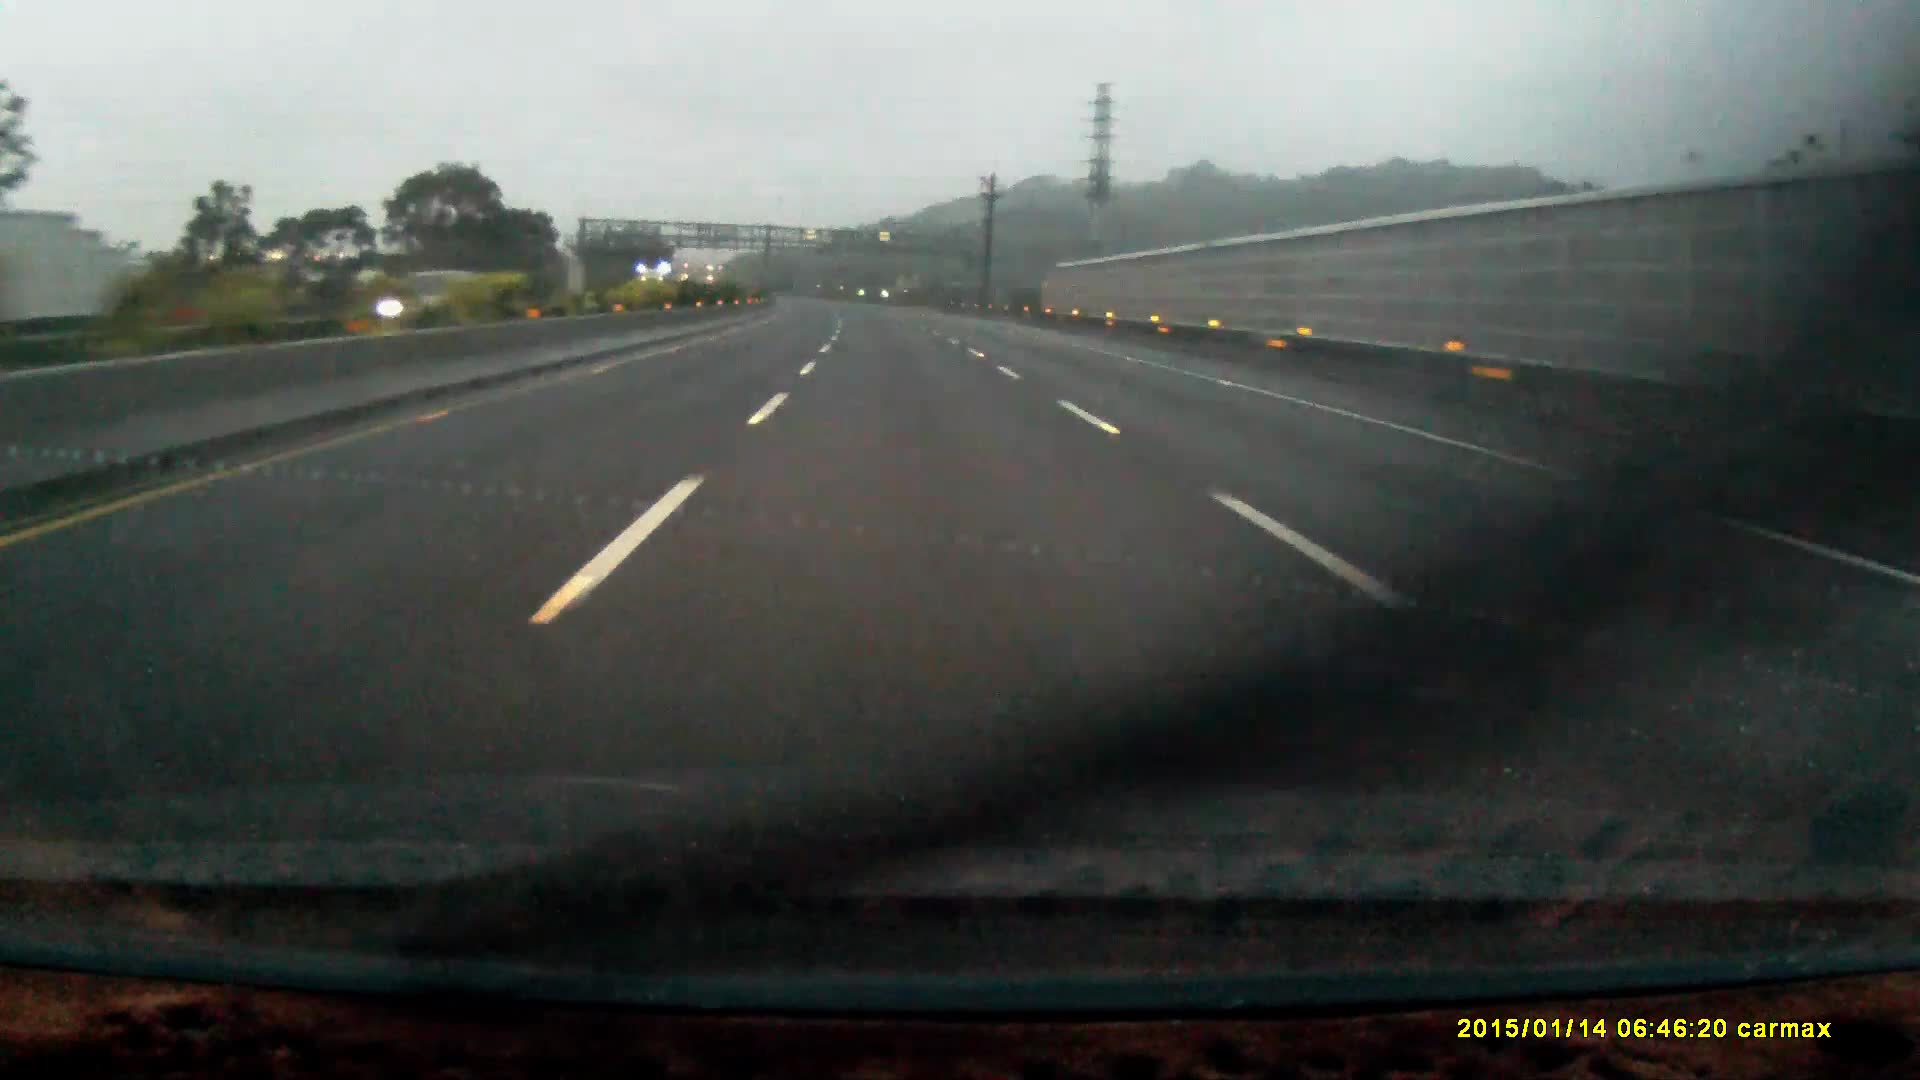vehicle: (367, 269, 463, 319), (640, 262, 686, 307)
